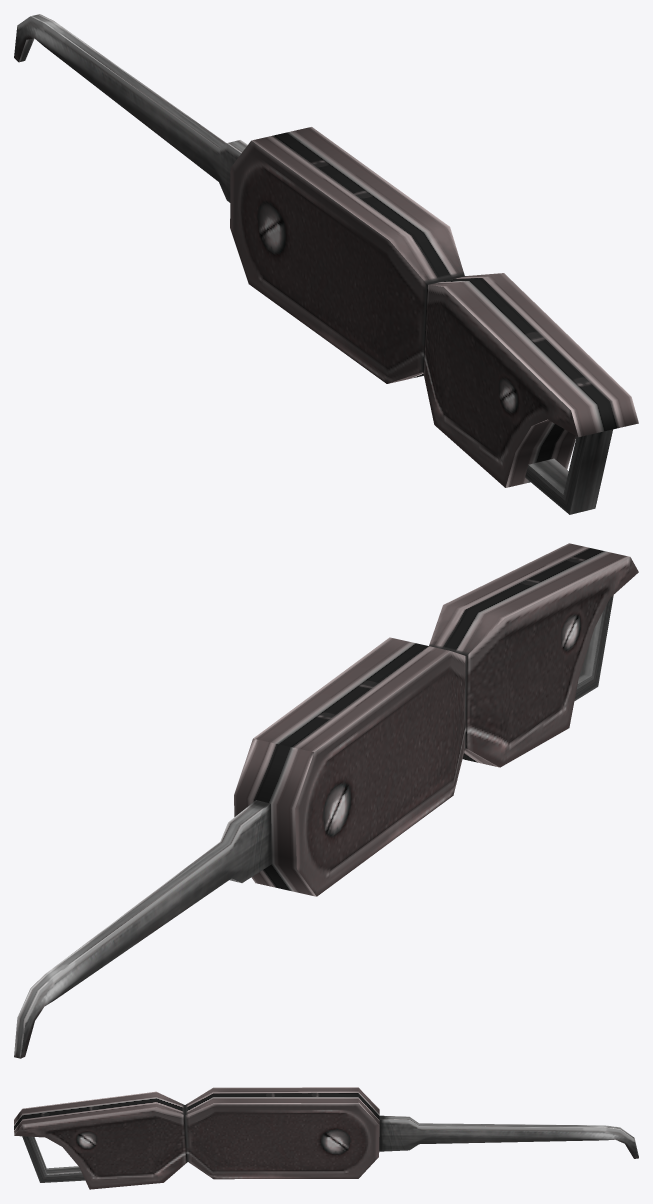
Rendered from PickingTool.FBX.
3 views of the same model, one above another, from view 1: azimuth 30°, elevation 25°; view 2: azimuth 150°, elevation 25°; view 3: azimuth 270°, elevation 25° (orthographic). The views are drawn at different scales.
Parts seen in each view (by area): view 1: Cylinder15; view 2: Cylinder15; view 3: Cylinder15.
Boxes of the visible parts, bbox=[...] form: Cylinder15: bbox=[14, 14, 638, 514]; Cylinder15: bbox=[14, 543, 638, 1058]; Cylinder15: bbox=[14, 1087, 638, 1189].
Size of the model in its own units: 5.2 by 12.25 by 80.27.
